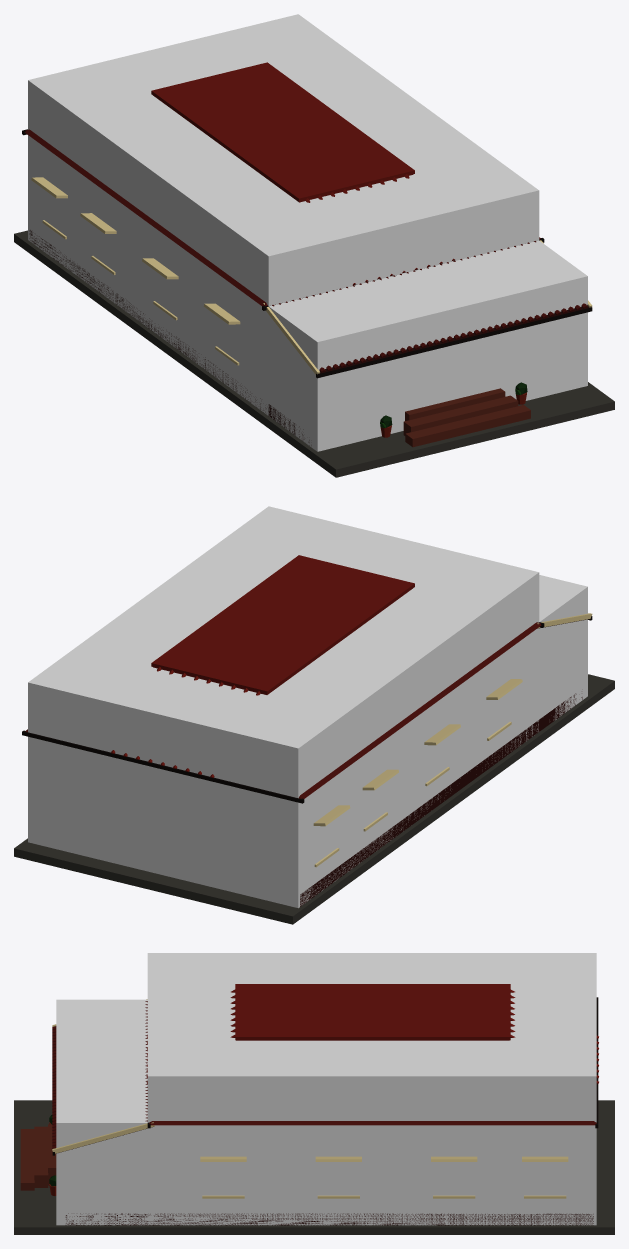
File: CHN_022_deep_verandah.glb
The picture shows the model from 3 angles, top to bottom: view 1: azimuth 30°, elevation 25°; view 2: azimuth 150°, elevation 25°; view 3: azimuth 270°, elevation 25°; orthographic projection. The views are drawn at different scales.
Parts seen in each view (by area): view 1: COL_Main, COL_Verandah, LOD0; view 2: COL_Main, LOD0, COL_Verandah; view 3: COL_Main, LOD0, COL_Verandah.
Part boxes in pixels (left/top/right/bottom): COL_Main: left=28, top=14, right=539, bottom=415; COL_Verandah: left=268, top=240, right=587, bottom=451; LOD0: left=14, top=62, right=614, bottom=477; COL_Main: left=28, top=506, right=539, bottom=908; LOD0: left=14, top=555, right=614, bottom=924; COL_Verandah: left=539, top=575, right=587, bottom=720; COL_Main: left=147, top=953, right=596, bottom=1225; LOD0: left=14, top=984, right=614, bottom=1234; COL_Verandah: left=56, top=999, right=153, bottom=1225.
Size of what is drawn, in the model's own units: 10.45 by 5.85 by 19.8.
